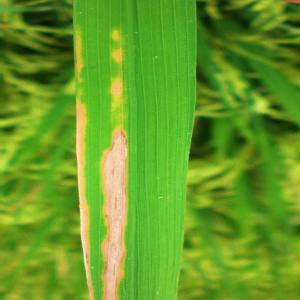2 BacterialBlight: (70, 1, 196, 300)
